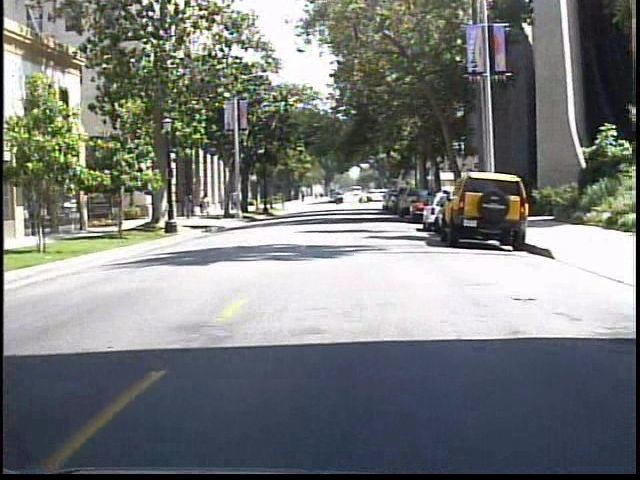person: (197, 190, 217, 222), (176, 187, 193, 221)
